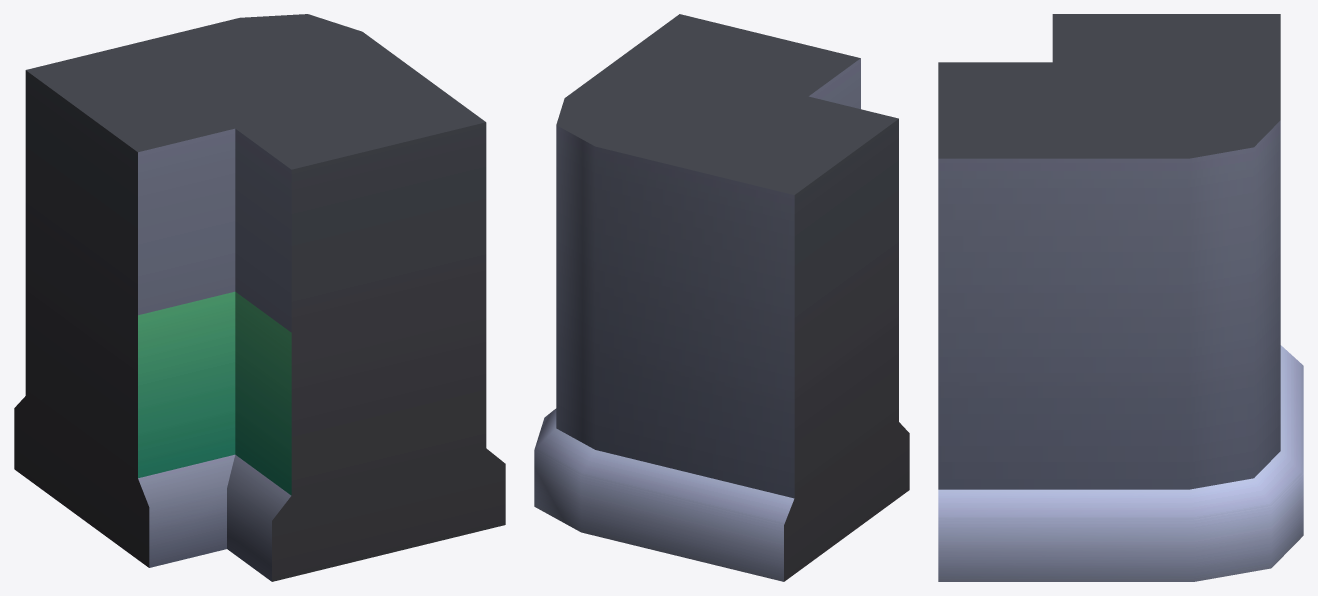
Rendered from kenney-mini-market-wall-corner.glb.
The picture shows the model from 3 angles, left to right: view 1: azimuth 30°, elevation 25°; view 2: azimuth 150°, elevation 25°; view 3: azimuth 270°, elevation 25°; orthographic projection. The views are drawn at different scales.
Visible parts, largest first — view 1: wall-corner; view 2: wall-corner; view 3: wall-corner.
Boxes of the visible parts, bbox=[...] form: wall-corner: bbox=[14, 14, 505, 581]; wall-corner: bbox=[534, 14, 909, 581]; wall-corner: bbox=[938, 14, 1303, 581].
Bounding box in the file's own units: 0.8 × 1 × 0.8.
1 material, 1 textured.
